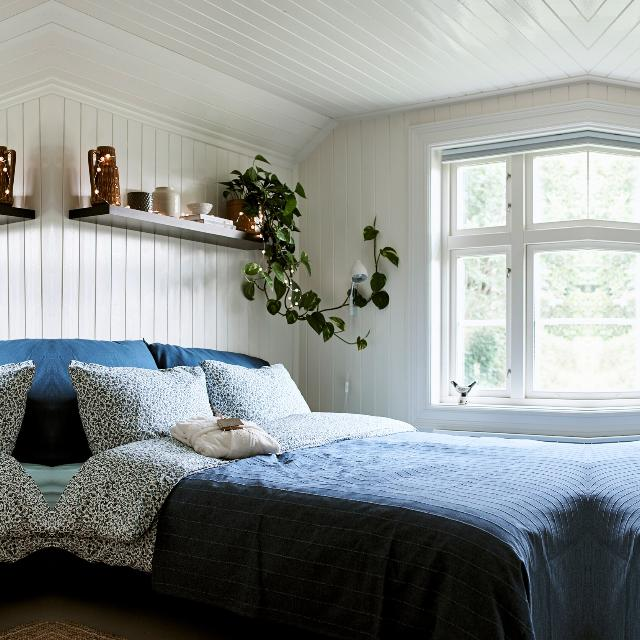pillow: (67, 362, 213, 458), (204, 360, 315, 427), (0, 362, 35, 458)
